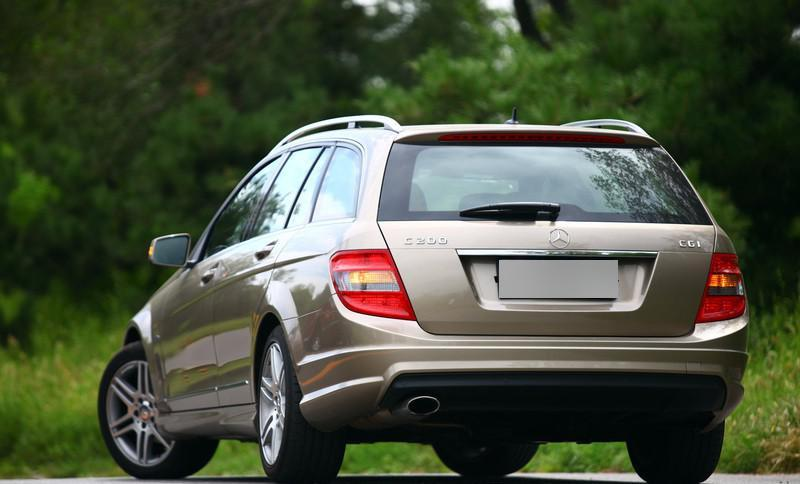Wagon: (97, 106, 751, 484)
